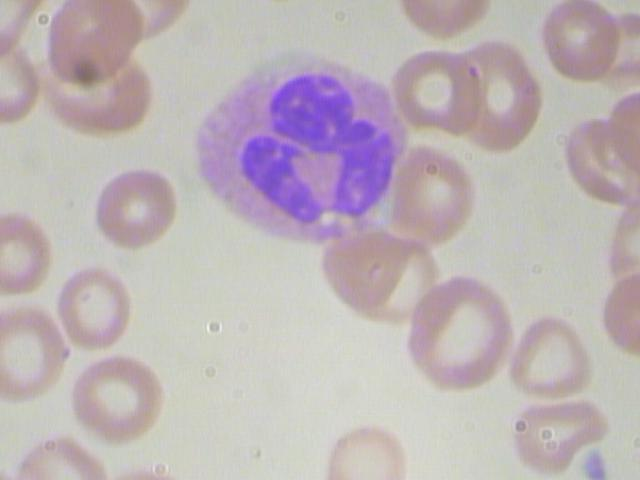RBC: (396, 274, 519, 394), (448, 38, 545, 158), (381, 140, 478, 249), (60, 353, 168, 445), (502, 394, 615, 479), (386, 47, 487, 137), (504, 310, 596, 403), (87, 164, 183, 251), (319, 223, 415, 310), (54, 261, 139, 351), (0, 303, 70, 406), (542, 1, 621, 87), (0, 208, 65, 300), (322, 415, 408, 480)
WBC: (182, 40, 425, 268)
